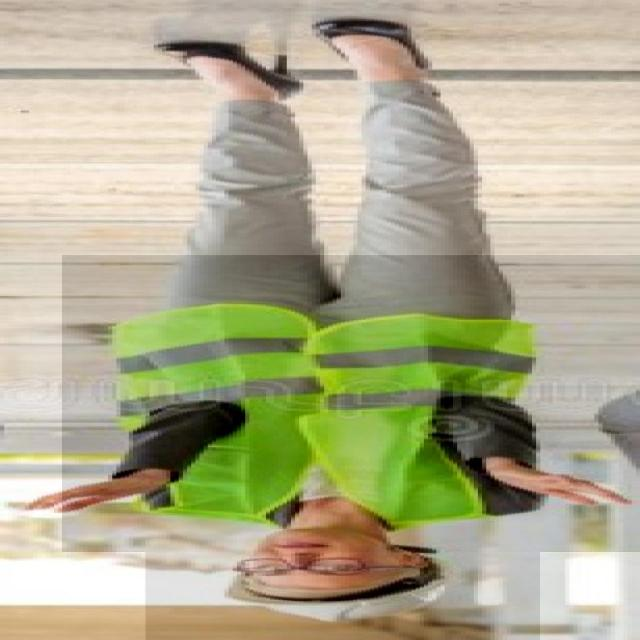Helmet: (146, 513, 540, 640)
Safety Vest: (62, 255, 640, 552)
